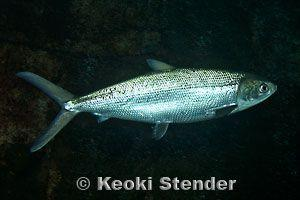Bangus: (14, 57, 277, 152)
